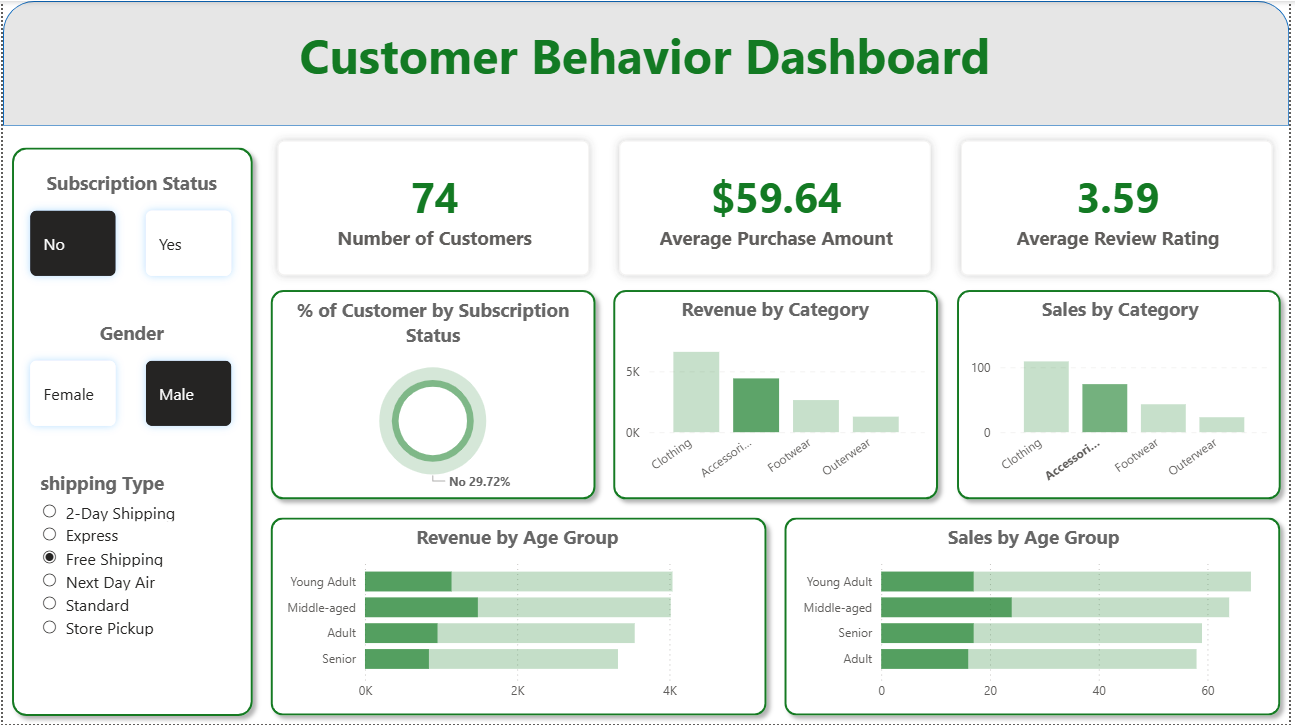

The page's visual inventory and layout, read from the dashboard file:
{"tool":"powerbi","page":{"name":"Page 1","canvas":[1280,720],"ordinal":0},"visuals":[{"type":"cardVisual","fields":{"Data":["public customer.Number of Customers","public customer.Average Purchase Amount","public customer.Average Review Rating"]},"box":[257.5,123.8,1022.5,166.2],"z":0},{"type":"group","id":"g1","title":"Group 1","box":[257.5,278.8,341.2,226.2],"z":0,"group":"g4"},{"type":"shape","box":[939.9,278.8,340.1,226.2],"z":0,"group":"g3"},{"type":"shape","box":[0,0,1280,124.3],"z":1000},{"type":"group","id":"g2","title":"Group 2","box":[598.7,278.8,341.2,226.2],"z":1000,"group":"g4"},{"type":"clusteredColumnChart","title":"Sales by Category","fields":{"Y":["CountNonNull(public customer.customer_id)"],"Category":["public customer.category"]},"box":[957.6,294,307.9,194.7],"z":1000,"group":"g3"},{"type":"textbox","box":[118.8,16.2,1041.2,92.5],"z":2000},{"type":"group","id":"g3","title":"Group 3","box":[939.9,278.8,340.1,226.2],"z":2000,"group":"g4"},{"type":"shape","box":[0,136.2,257.5,583.8],"z":3000},{"type":"shape","box":[257.5,278.8,341.2,226.2],"z":3000,"group":"g1"},{"type":"shape","box":[257.5,505,511.2,215],"z":3000},{"type":"group","id":"g4","title":"Group 4","box":[257.5,278.8,1022.5,226.2],"z":4000},{"type":"donutChart","title":"% of Customer by Subscription Status","fields":{"Category":["public customer.subscription_status"],"Y":["CountNonNull(public customer.customer_id)"]},"box":[272.8,294.6,311,196.9],"z":4000,"group":"g1"},{"type":"advancedSlicerVisual","title":"Subscription Status","fields":{"Values":["public customer.subscription_status"]},"box":[11.2,167.5,233.8,122.5],"z":5000},{"type":"shape","box":[598.7,278.8,341.2,226.2],"z":5000,"group":"g2"},{"type":"advancedSlicerVisual","title":"Gender","fields":{"Values":["public customer.gender"]},"box":[11.2,317.5,233.8,122.5],"z":6000},{"type":"listSlicer","fields":{"Values":["public customer.shipping_type"]},"box":[32.5,466.2,192.5,218.8],"z":6001},{"type":"clusteredColumnChart","title":"Revenue by Category","fields":{"Y":["Sum(public customer.purchase_amount)"],"Category":["public customer.category"]},"box":[614.3,294,307.9,194.7],"z":6002,"group":"g2"},{"type":"clusteredBarChart","title":"Revenue by Age Group","fields":{"Y":["Sum(public customer.purchase_amount)"],"Category":["public customer.age_group"]},"box":[272.5,520,478.8,185],"z":6002},{"type":"shape","box":[768.8,505,511.2,215],"z":6003},{"type":"clusteredBarChart","title":"Sales by Age Group","fields":{"Y":["CountNonNull(public customer.customer_id)"],"Category":["public customer.age_group"]},"box":[786.2,520,478.8,185],"z":6004}]}

Visuals, with their boxes in screenshot pixels (x1, y1, x2, y2), scaled from the page's 1280x720 canvas onto the 1295x725 screenshot:
cardVisual - public customer.Number of Customers x public customer.Average Purchase Amount: bbox(261, 125, 1294, 292)
"Group 1" group: bbox(261, 281, 606, 509)
shape: bbox(951, 281, 1294, 509)
shape: bbox(0, 0, 1294, 125)
"Group 2" group: bbox(606, 281, 951, 509)
"Sales by Category" clusteredColumnChart: bbox(969, 296, 1280, 492)
textbox: bbox(120, 16, 1174, 109)
"Group 3" group: bbox(951, 281, 1294, 509)
shape: bbox(0, 137, 261, 724)
shape: bbox(261, 281, 606, 509)
shape: bbox(261, 509, 778, 724)
"Group 4" group: bbox(261, 281, 1294, 509)
"% of Customer by Subscription Status" donutChart: bbox(276, 297, 591, 495)
"Subscription Status" advancedSlicerVisual: bbox(11, 169, 248, 292)
shape: bbox(606, 281, 951, 509)
"Gender" advancedSlicerVisual: bbox(11, 320, 248, 443)
listSlicer - public customer.shipping_type: bbox(33, 469, 228, 690)
"Revenue by Category" clusteredColumnChart: bbox(621, 296, 933, 492)
"Revenue by Age Group" clusteredBarChart: bbox(276, 524, 760, 710)
shape: bbox(778, 509, 1294, 724)
"Sales by Age Group" clusteredBarChart: bbox(795, 524, 1280, 710)
